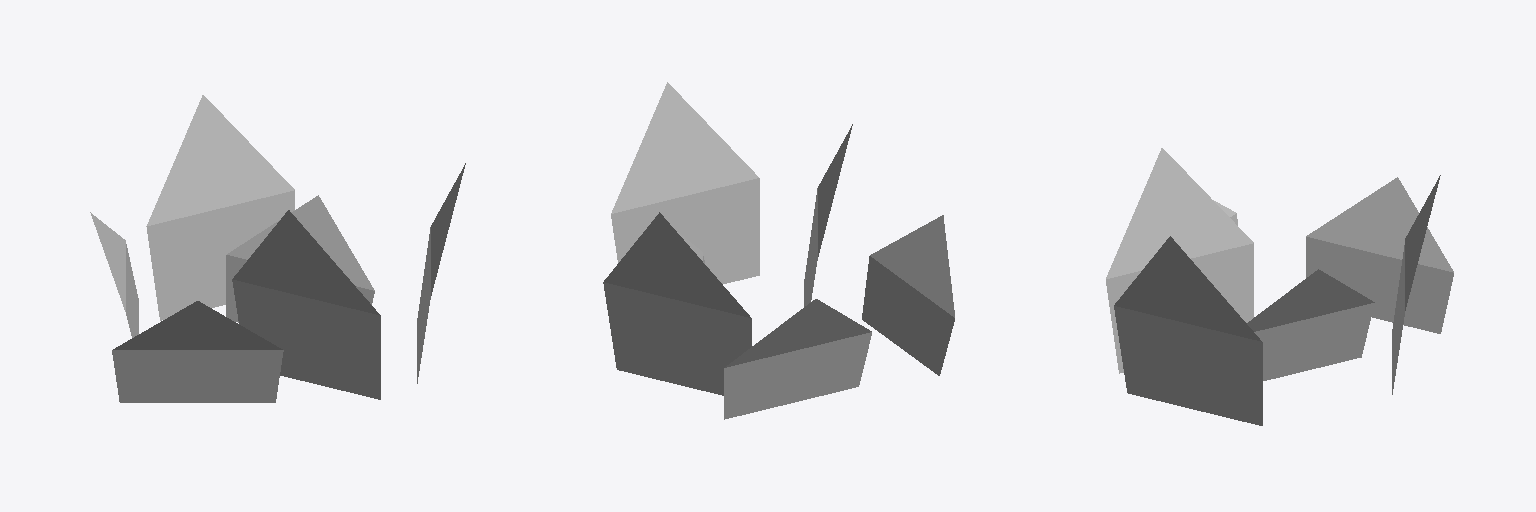
Rendered from grass.obj.
3 renders of one model, left to right at view 1: azimuth 30°, elevation 25°; view 2: azimuth 150°, elevation 25°; view 3: azimuth 270°, elevation 25°, orthographic.
Parts seen in each view (by area): view 1: grass; view 2: grass; view 3: grass.
Part boxes in pixels (left/top/right/bottom): grass: left=90, top=95, right=465, bottom=402; grass: left=603, top=82, right=954, bottom=419; grass: left=1106, top=148, right=1453, bottom=425.
Bounding box in the file's own units: 1.03 × 0.57 × 0.9379.